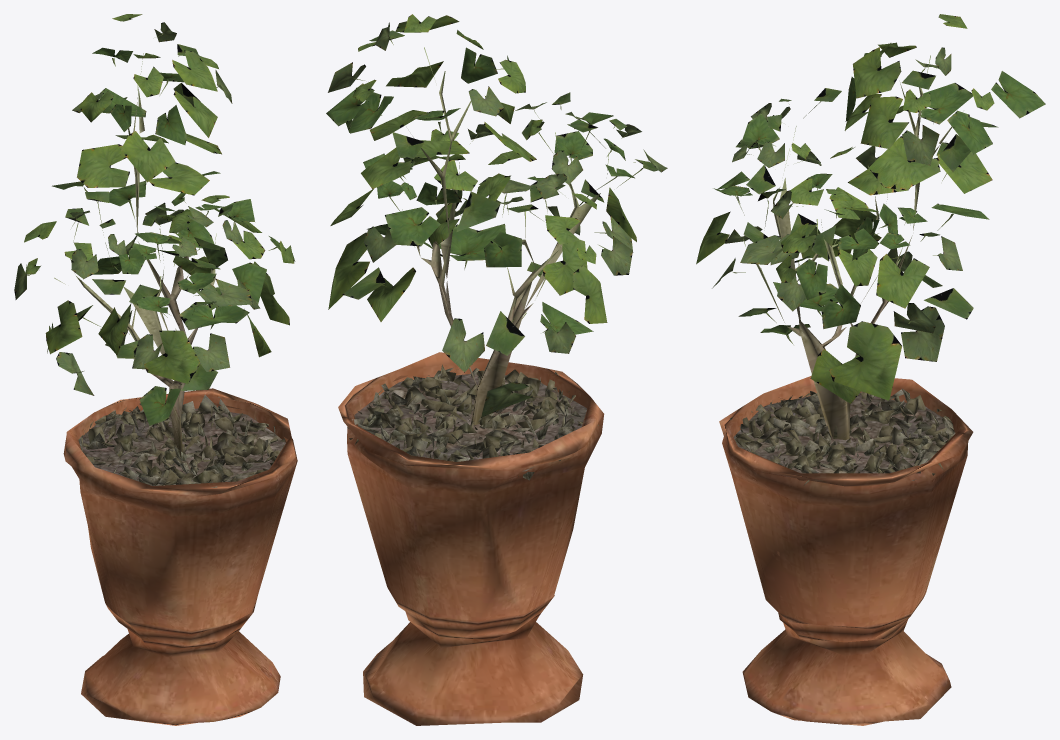
File: plant_tree.glb
The picture shows the model from 3 angles, left to right: view 1: azimuth 30°, elevation 25°; view 2: azimuth 150°, elevation 25°; view 3: azimuth 270°, elevation 25°; orthographic projection. The views are drawn at different scales.
Visible parts, largest first — view 1: potted_plant_01_stem, potted_plant_01_leaves; view 2: potted_plant_01_stem, potted_plant_01_leaves; view 3: potted_plant_01_stem, potted_plant_01_leaves.
Part boxes in pixels (<box>): potted_plant_01_stem: <box>54,53,297,725</box>; potted_plant_01_leaves: <box>14,14,295,425</box>; potted_plant_01_stem: <box>338,47,608,725</box>; potted_plant_01_leaves: <box>326,14,667,417</box>; potted_plant_01_stem: <box>719,55,973,725</box>; potted_plant_01_leaves: <box>696,14,1045,403</box>.
Size of the model in its own units: 0.578 by 1.33 by 0.6336.
Materials: 2 (2 with a texture image).
